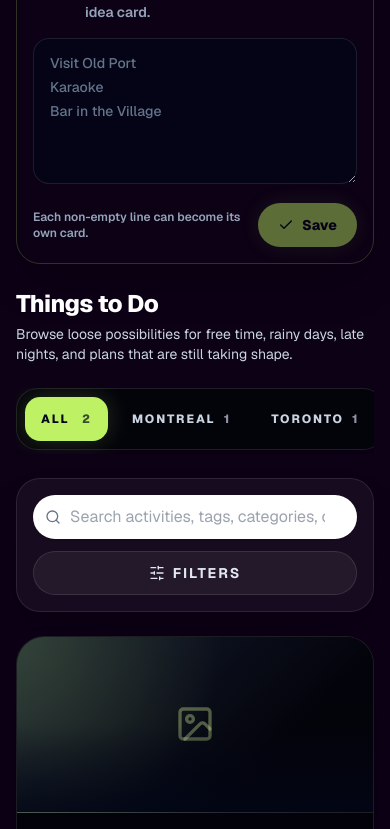
mobile Trip Ideas strict visual parity › keeps the shared search, location tabs, and filters browsable
(page scrolled)
Click the tab with aria-label "Montreal, 1 thing".
click(182, 419)  # box [116, 397, 247, 441]
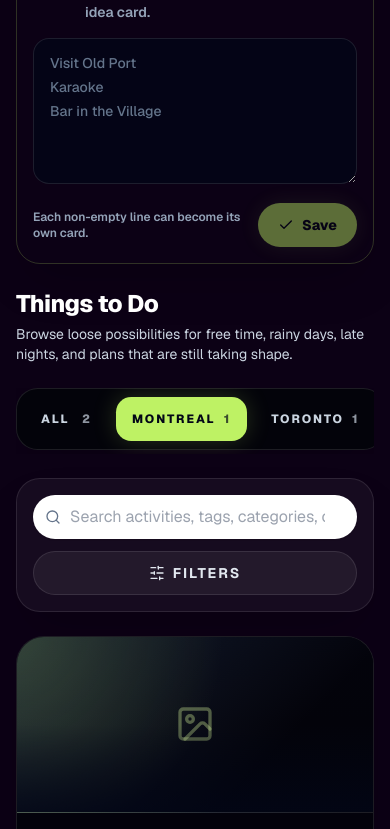
Check: the text "Toronto stopover museum" is not shown
Click the tab with aria-label "All locations".
click(66, 419)  # box [25, 397, 108, 441]
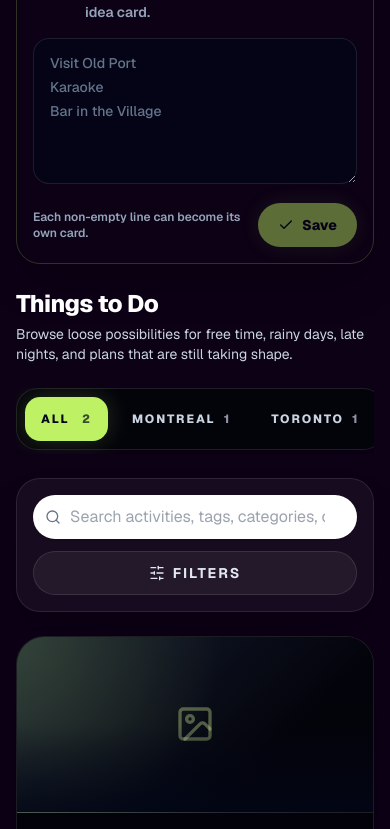
Type "museum" into the search field named "Search ideas".
click(195, 517); type("museum")  # box [33, 495, 357, 539]
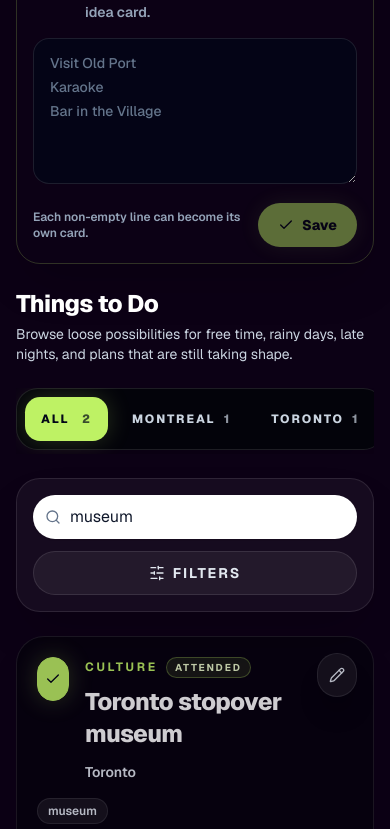
Check: the heading "Toronto stopover museum" is shown, box [85, 686, 309, 750]
Click the button "Filters".
click(195, 573)  # box [33, 551, 357, 595]
(page scrolled)
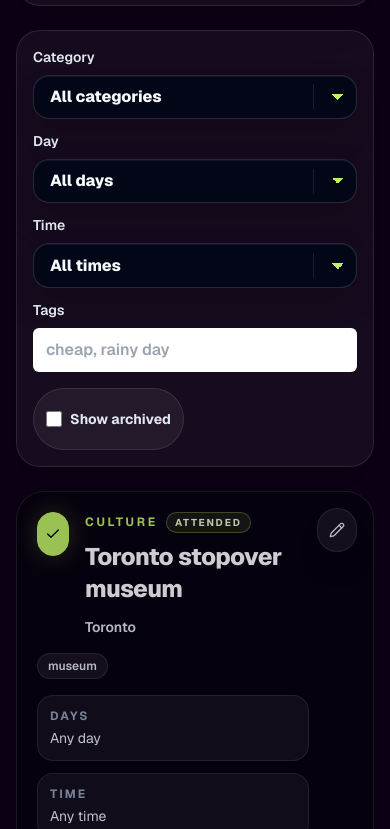
Check: the dropdown labelled "Category" is shown, box [33, 75, 357, 119]
Check: the checkbox labelled "Show archived" is not checked, box [46, 397, 62, 441]
